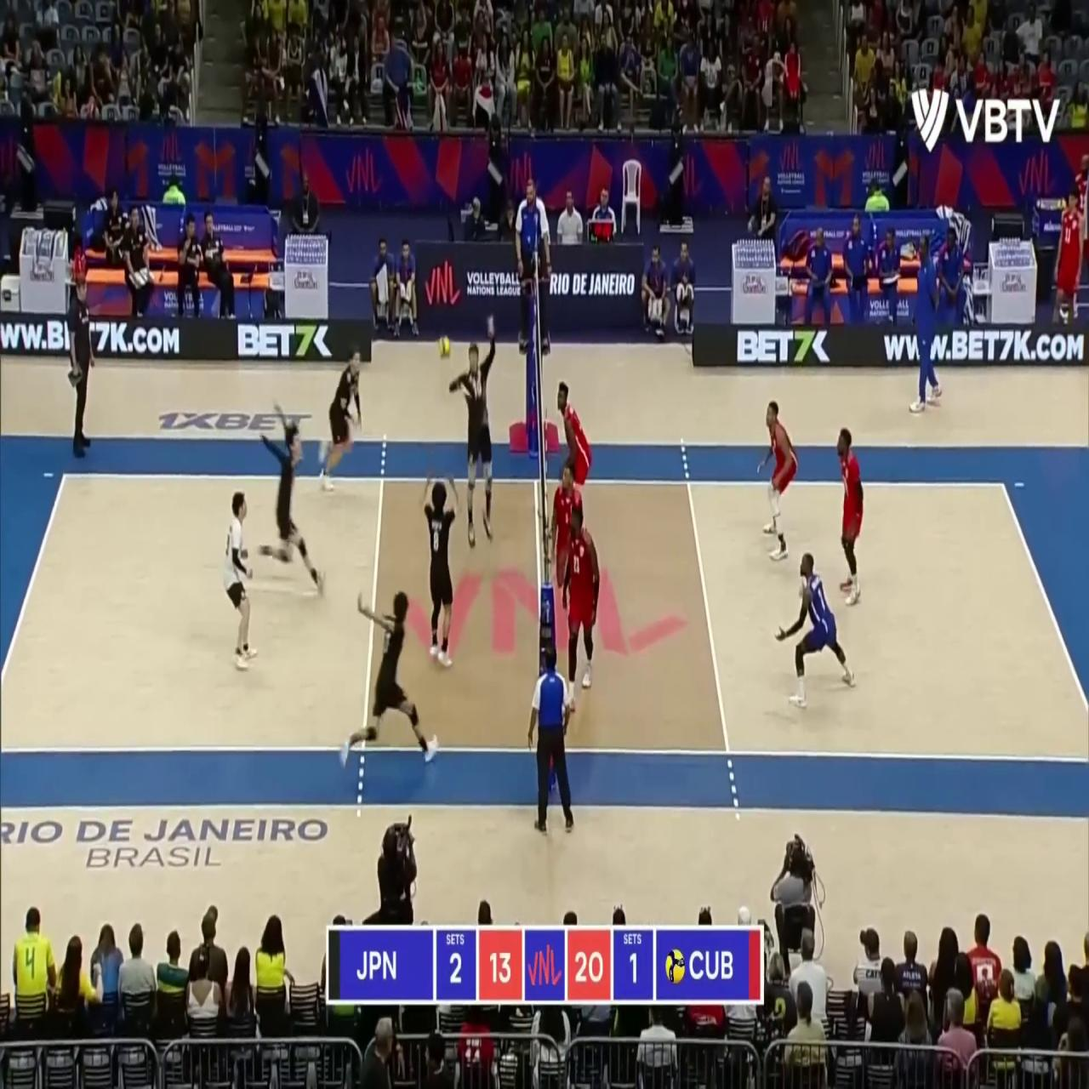ball: (439, 336, 451, 359)
